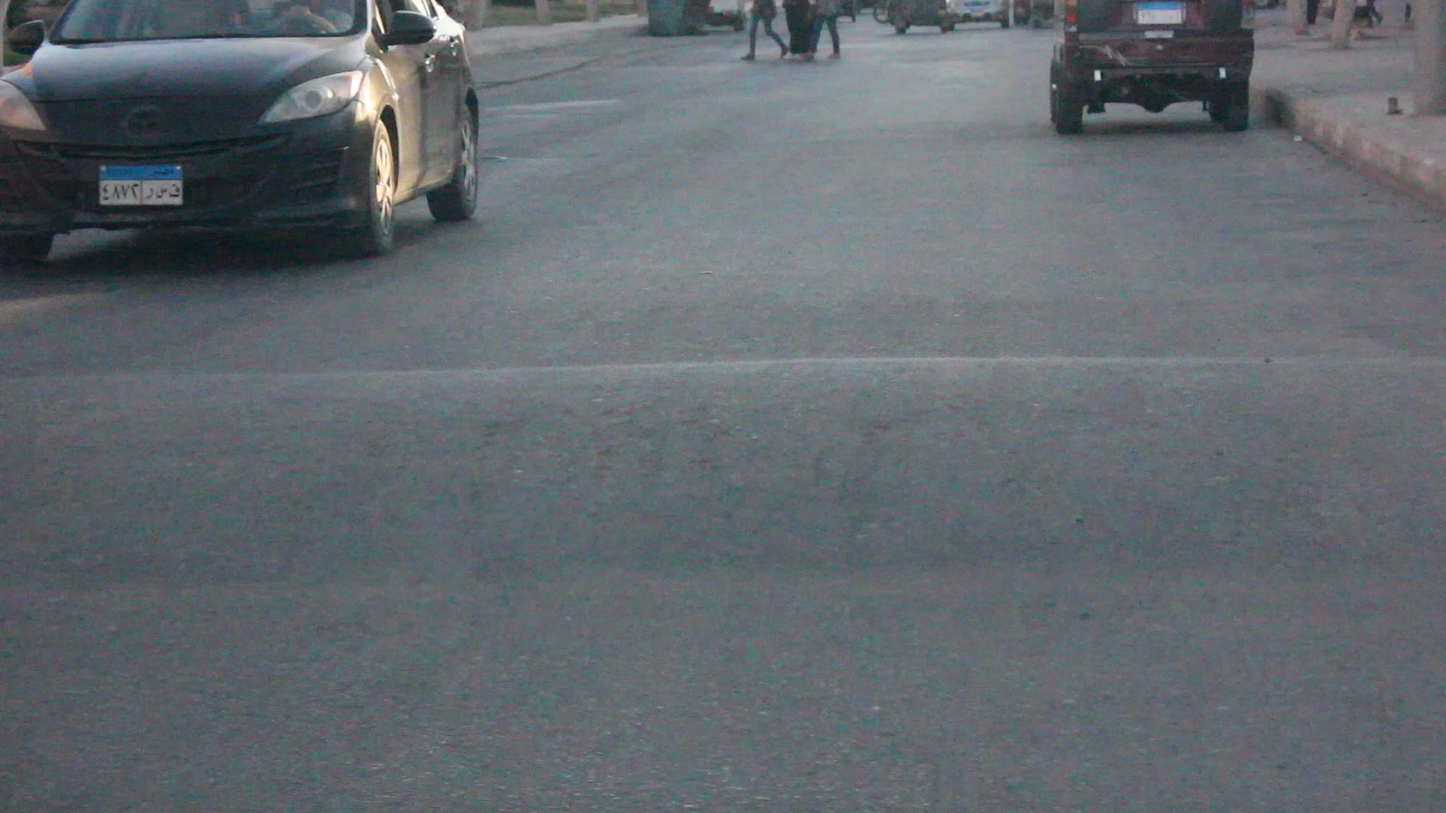Bump: (0, 349, 1445, 591)
